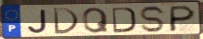D: (51, 7, 81, 35), (110, 6, 137, 33)
J: (27, 8, 49, 35)
P: (168, 4, 198, 33)
Q: (81, 6, 110, 34)
S: (139, 5, 168, 34)
